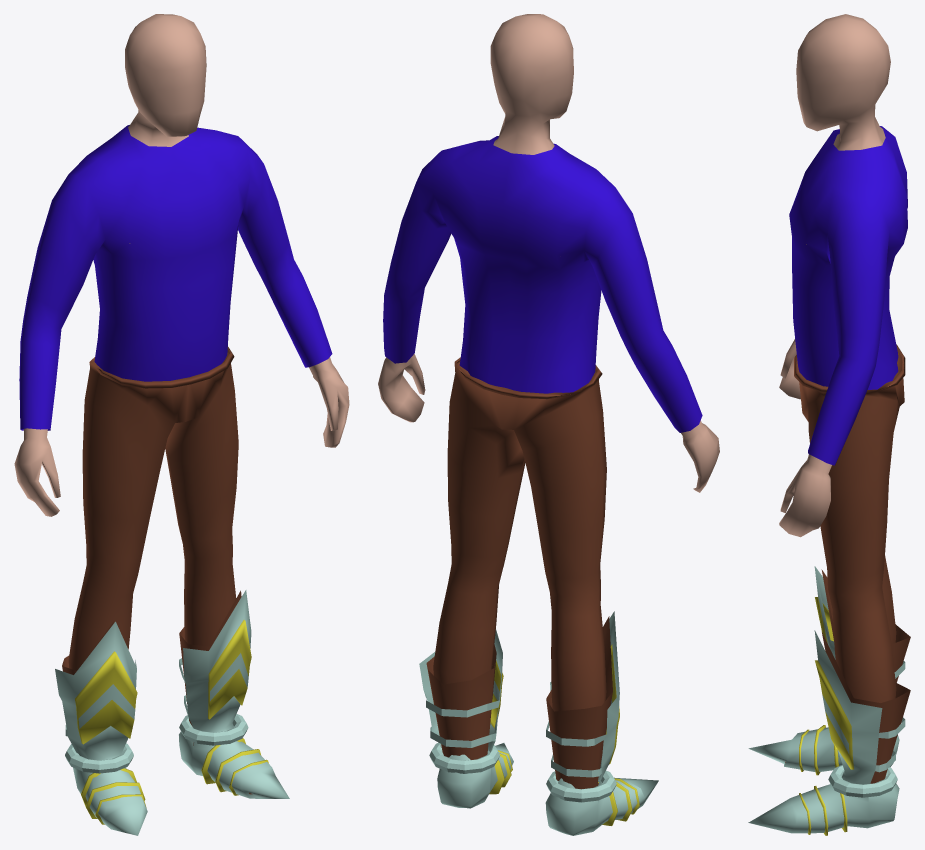
The model's file is Body.fbx.
The picture shows the model from 3 angles, left to right: view 1: azimuth 30°, elevation 25°; view 2: azimuth 150°, elevation 25°; view 3: azimuth 270°, elevation 25°; orthographic projection. The views are drawn at different scales.
Parts seen in each view (by area): view 1: shirts, Pants, armor boots, Cube, Cube.001; view 2: shirts, Pants, Cube, armor boots, Cube.001; view 3: shirts, Pants, armor boots, Cube, Cube.001.
Part boxes in pixels (box(x1,y1,x2,y2)): shirts: box(19, 125, 332, 430); Pants: box(68, 347, 238, 670); armor boots: box(55, 590, 289, 835); Cube: box(14, 14, 349, 516); Cube.001: box(62, 590, 252, 794); shirts: box(383, 136, 702, 432); Pants: box(433, 357, 606, 783); Cube: box(378, 14, 719, 492); armor boots: box(419, 611, 658, 835); Cube.001: box(426, 616, 612, 789); shirts: box(789, 126, 907, 465); Pants: box(794, 344, 905, 702); armor boots: box(748, 566, 905, 835); Cube: box(779, 14, 890, 537); Cube.001: box(785, 569, 910, 783).
Size of the model in its own units: 721 by 1657 by 313.
